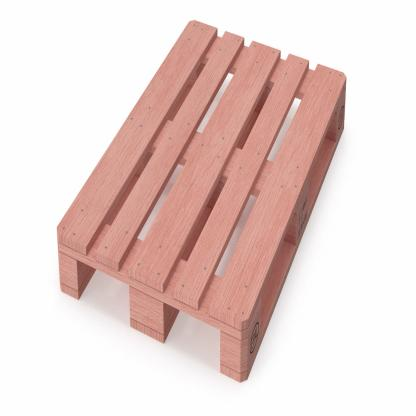BoxFace: (56, 13, 349, 390)
